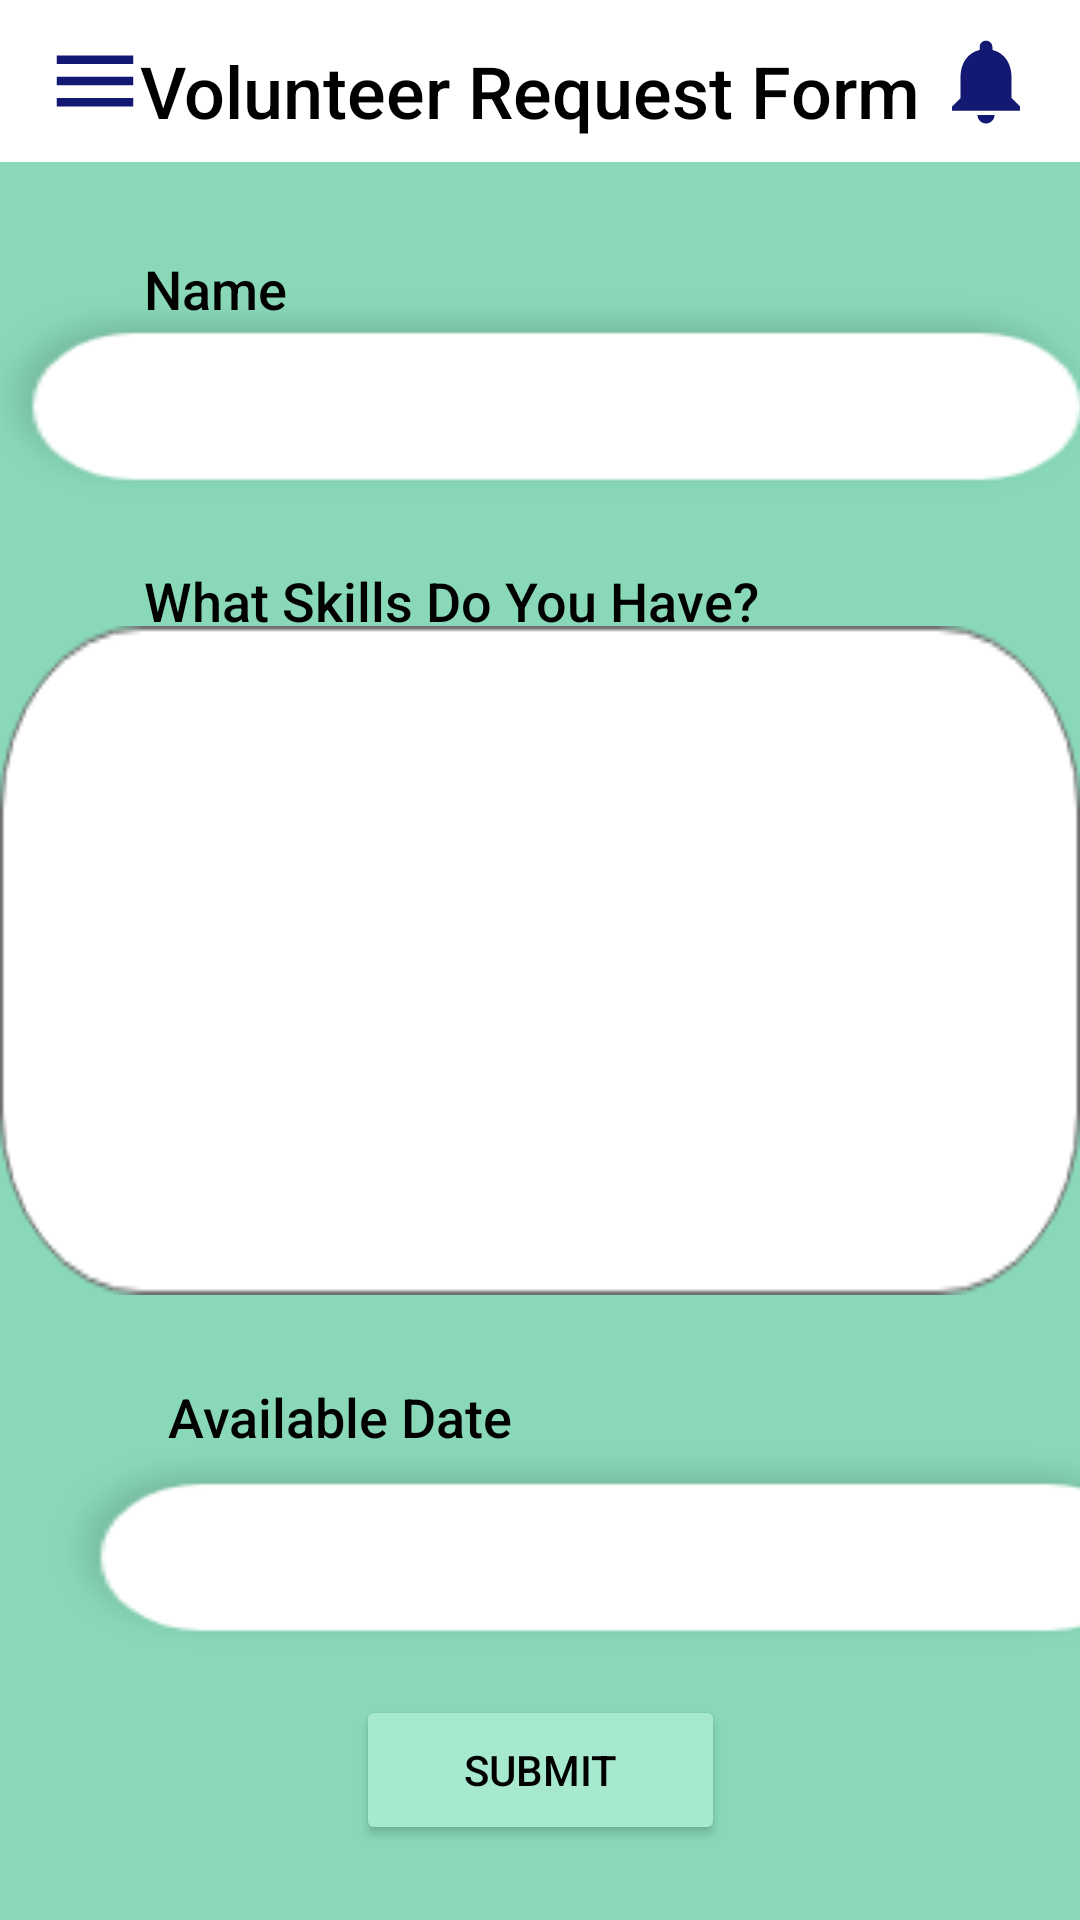

Icons on this 1080*1920 Android screen, each with its box as (x1,y1,x2,y2):
menu: (56,55,134,107)
notifications: (952,40,1020,124)
